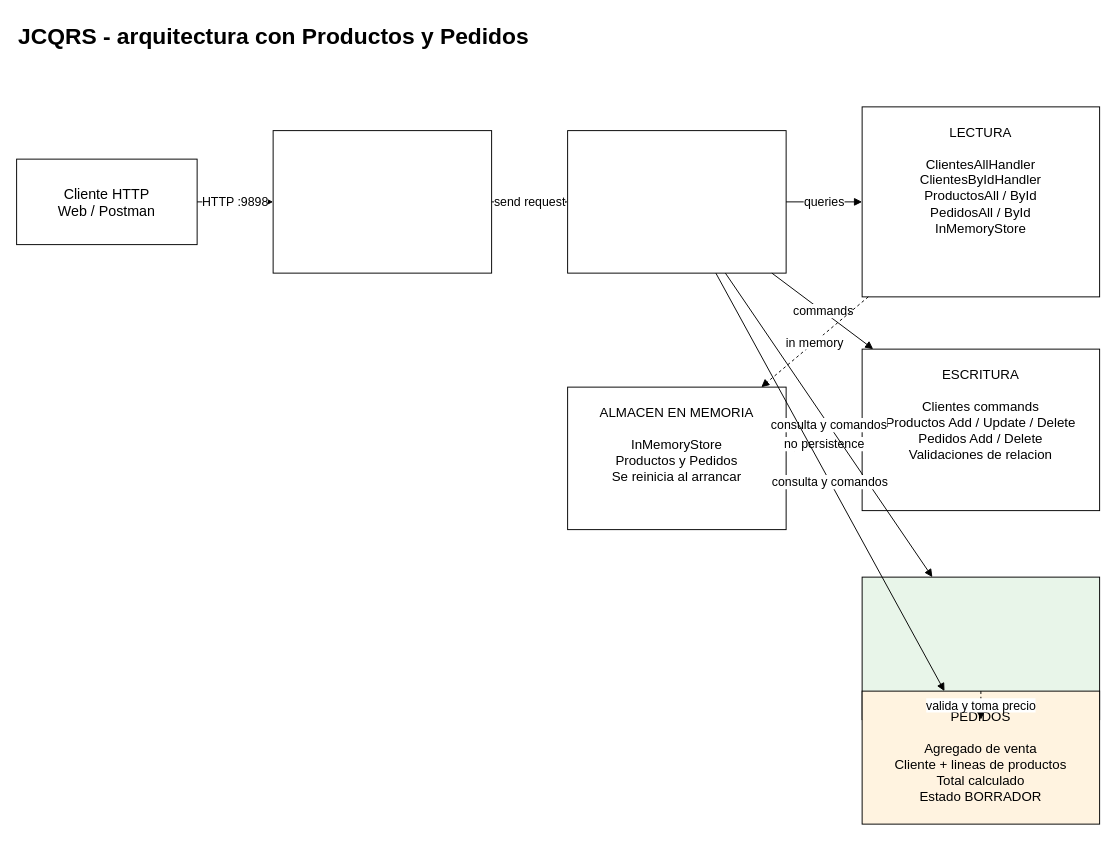
The diagram is 1116 pixels wide and 841 high, and some of its shapes have lost their labels. Here are the shapes that lost their labels. From the top down, the centre of each, then its label:
(x=382, y=201): API REST Spring MVC ClientesController ProductosController PedidosController
(x=676, y=201): CQRS Mediator Requests Handlers
(x=980, y=648): PRODUCTOS Catalogo SKU, nombre, precio CRUD por CQRS
